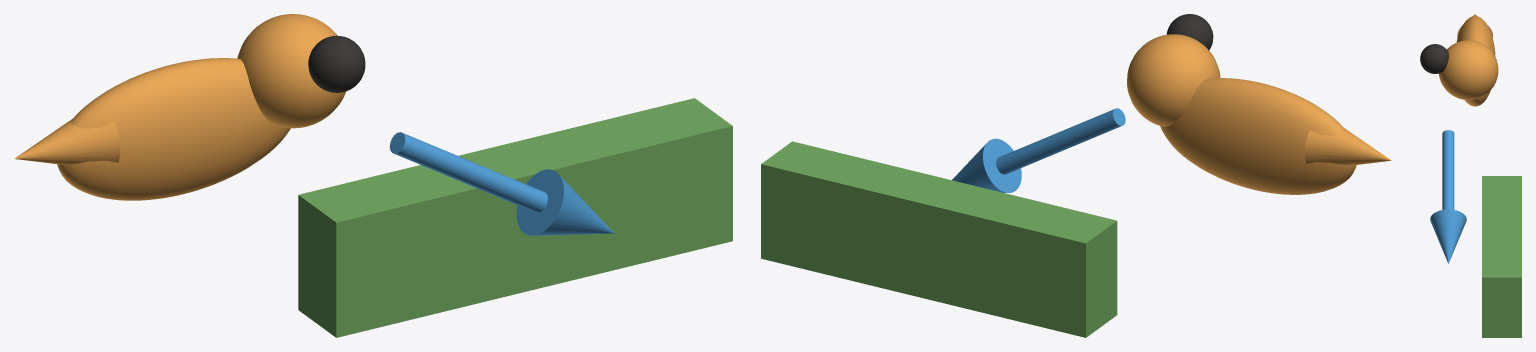
Rendered from bio-p1-prey.glb.
3 views of the same model, side by side, from view 1: azimuth 30°, elevation 25°; view 2: azimuth 150°, elevation 25°; view 3: azimuth 270°, elevation 25° (orthographic). The views are drawn at different scales.
Visible parts, largest first — view 1: grass-cover-refuge, prey-alert-body-body, prey-alert-body-head, escape-to-cover-arrow-shaft, escape-to-cover-arrow-head, prey-alert-body-tail, large-eye-alert-cue; view 2: grass-cover-refuge, prey-alert-body-body, prey-alert-body-head, escape-to-cover-arrow-shaft, prey-alert-body-tail, escape-to-cover-arrow-head, large-eye-alert-cue; view 3: grass-cover-refuge, prey-alert-body-head, escape-to-cover-arrow-head, escape-to-cover-arrow-shaft, prey-alert-body-body, large-eye-alert-cue.
Part boxes in pixels (x1,y1,x2,y2): grass-cover-refuge: [298, 98, 732, 337]; prey-alert-body-body: [57, 58, 290, 200]; prey-alert-body-head: [237, 14, 345, 128]; escape-to-cover-arrow-shaft: [389, 132, 547, 213]; escape-to-cover-arrow-head: [516, 169, 614, 235]; prey-alert-body-tail: [14, 119, 120, 164]; large-eye-alert-cue: [308, 35, 365, 92]; grass-cover-refuge: [761, 141, 1117, 337]; prey-alert-body-body: [1160, 78, 1356, 194]; prey-alert-body-head: [1127, 34, 1220, 126]; escape-to-cover-arrow-shaft: [996, 108, 1125, 174]; prey-alert-body-tail: [1304, 128, 1391, 165]; escape-to-cover-arrow-head: [952, 138, 1021, 192]; large-eye-alert-cue: [1166, 14, 1213, 50]; grass-cover-refuge: [1482, 176, 1521, 337]; prey-alert-body-head: [1439, 40, 1498, 99]; escape-to-cover-arrow-head: [1430, 209, 1466, 263]; escape-to-cover-arrow-shaft: [1442, 130, 1454, 209]; prey-alert-body-body: [1456, 16, 1495, 106]; large-eye-alert-cue: [1420, 44, 1448, 73].
Size of what is drawn, in the model's own units: 1.32 by 0.595 by 0.305.
